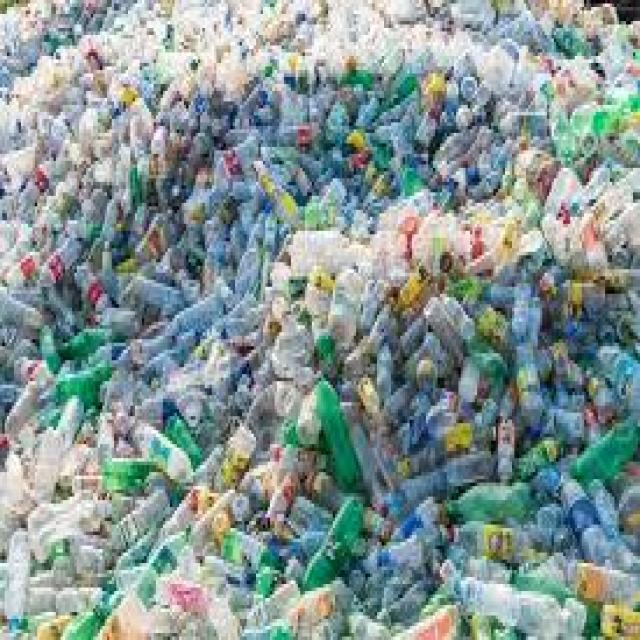heap: (34, 36, 623, 637)
